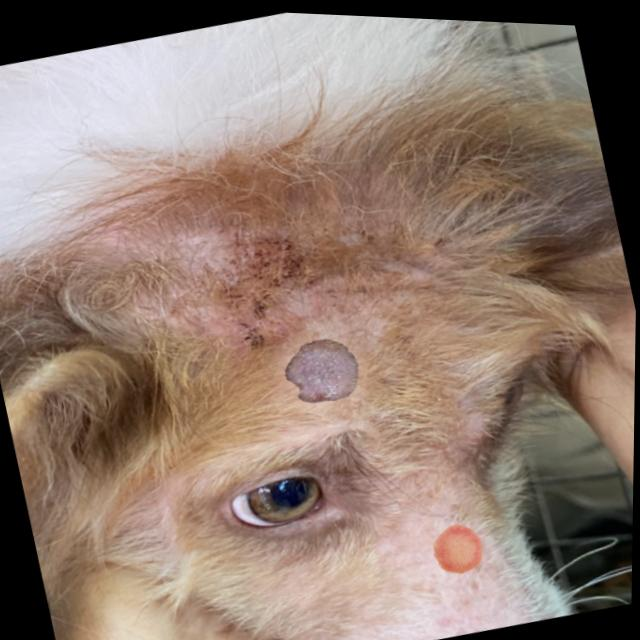ringworm: (386, 502, 524, 606), (269, 314, 393, 428), (254, 338, 258, 342)
